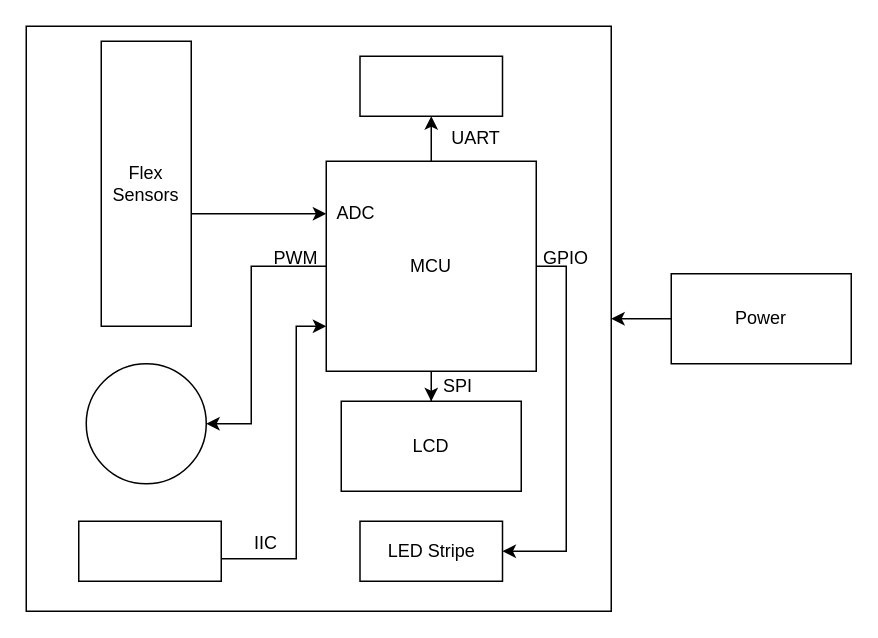
The diagram is 878 pixels wide and 638 high, and some of its shapes have lost their labels. Here are the shapes that lost their labels. From the top down, the centre of each, then its label:
At point (430, 85): "ESP32".
At point (145, 423): "Ring LED".
At point (149, 550): "Pulse sensor".
